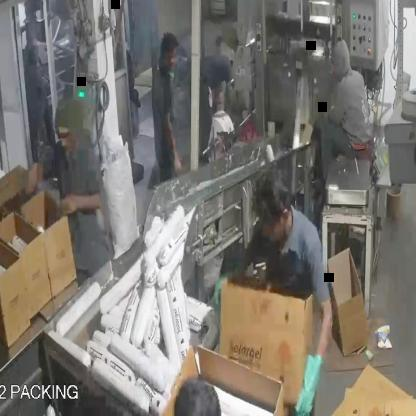glove: (294, 341, 332, 416)
no_glove: (160, 100, 192, 188), (55, 182, 107, 227), (23, 158, 45, 200)
